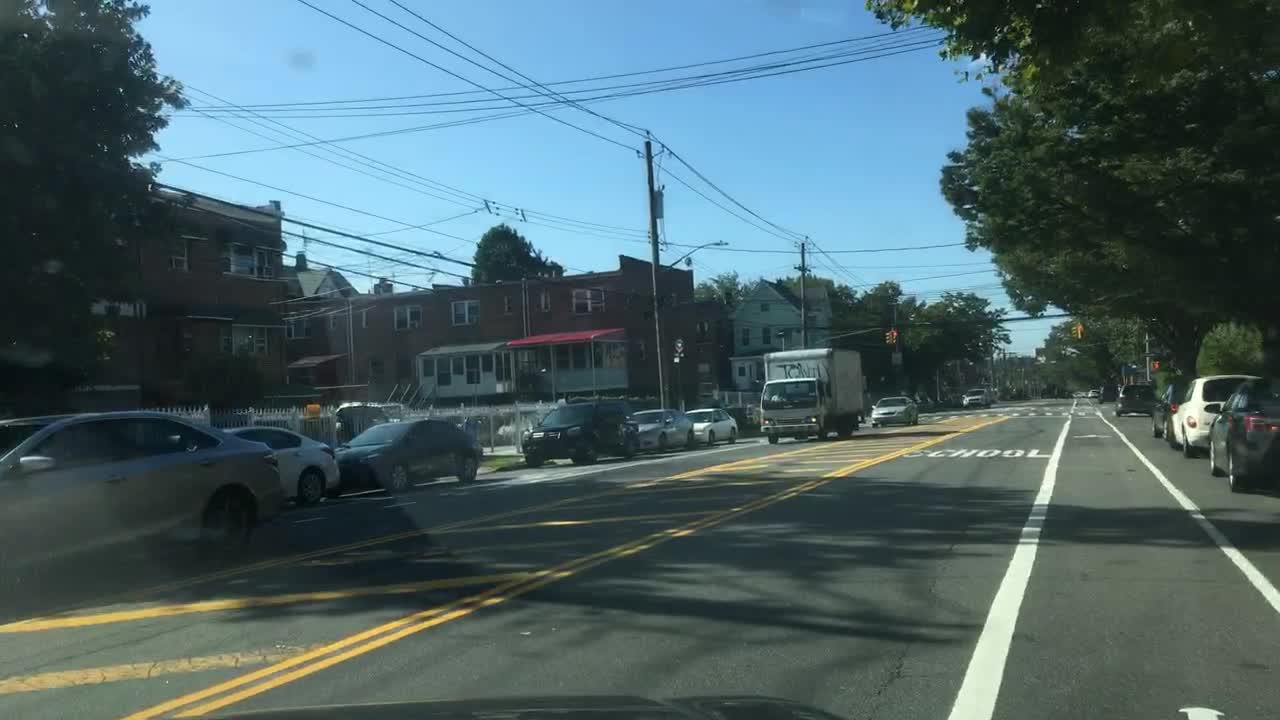car: (1, 411, 286, 586), (340, 418, 481, 493), (219, 427, 336, 507), (1209, 374, 1279, 493), (1167, 374, 1261, 460), (523, 401, 639, 465), (1147, 373, 1188, 444), (632, 409, 691, 453), (334, 402, 380, 443), (684, 409, 737, 444), (1112, 381, 1158, 418), (450, 413, 492, 450), (868, 395, 918, 425), (495, 409, 527, 446), (723, 406, 751, 432), (378, 402, 411, 423), (964, 387, 988, 409), (1097, 383, 1119, 406), (747, 404, 763, 430), (946, 390, 966, 408), (911, 397, 931, 415), (1037, 383, 1058, 399), (931, 397, 948, 413), (987, 387, 1001, 406), (1084, 388, 1100, 401), (1001, 387, 1013, 404), (1009, 387, 1020, 404), (1067, 390, 1084, 399)
traffic light: (1149, 357, 1165, 371), (882, 331, 894, 346), (1076, 324, 1083, 345), (892, 331, 901, 346), (1070, 325, 1077, 341)
traffic sign: (670, 353, 684, 366), (672, 334, 682, 352)
truck: (758, 350, 862, 443)
